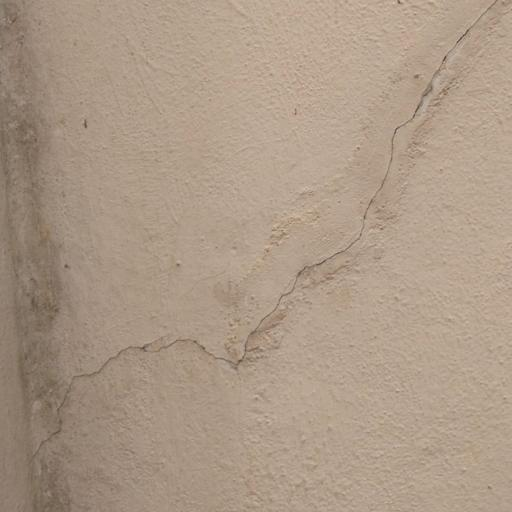minor_crack: (25, 0, 512, 479)
